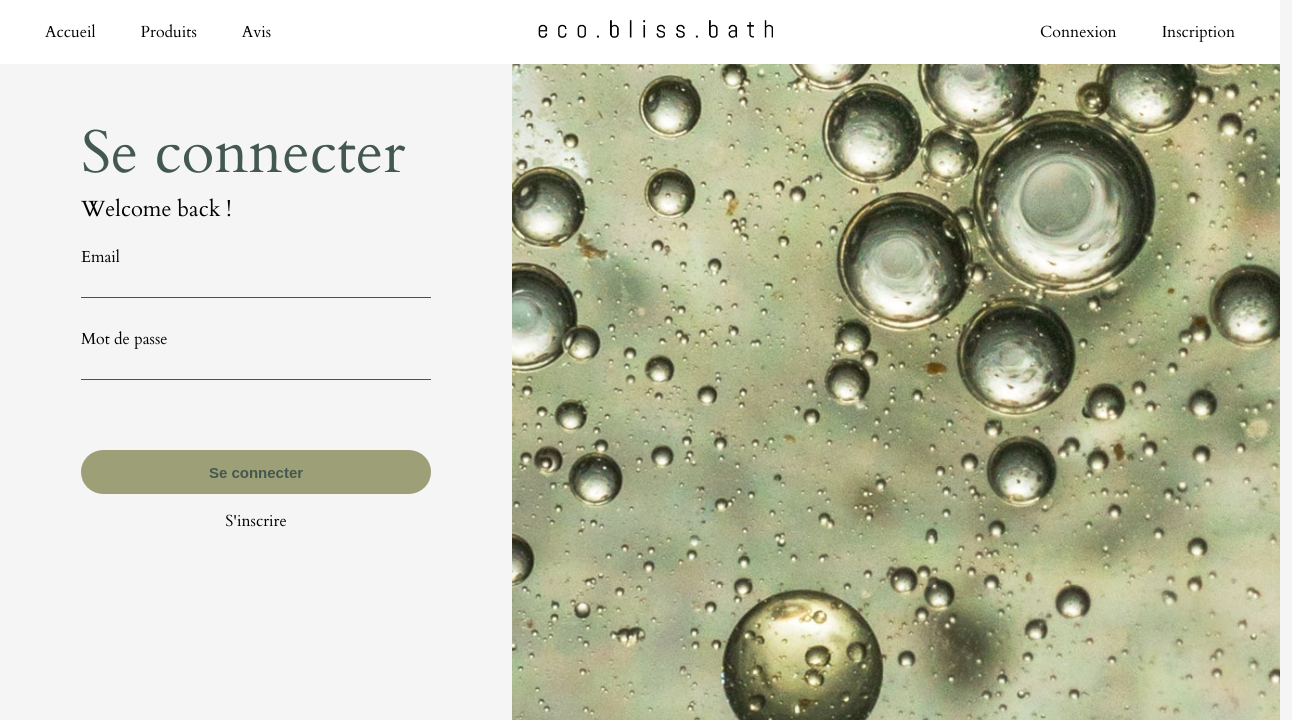
Test: Page de connexion › 2 - Résistance à l'injection SQL dans le formulaire de connexion
In the field with test id "login-input-username": (256, 283) [81,268,431,298], type "' OR 1=1#"
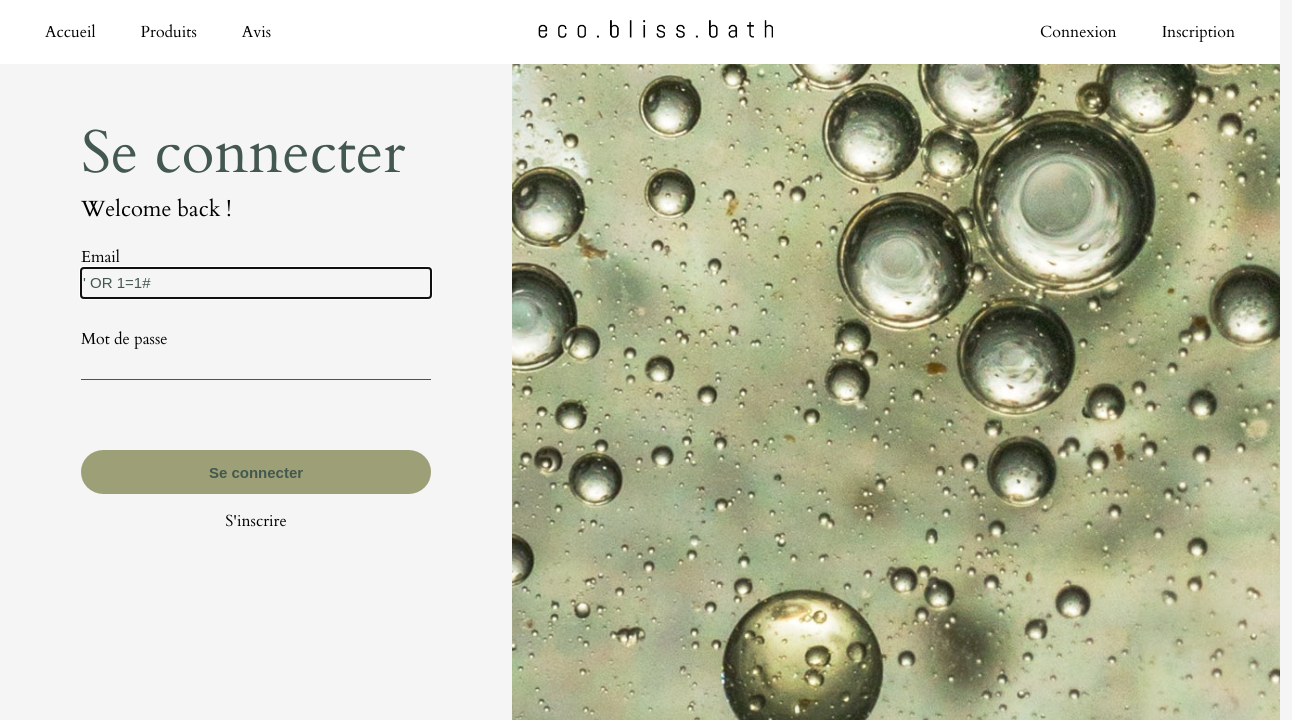
In the password field with test id "login-input-password": (256, 365) [81,350,431,380], type "' OR 1=1#"
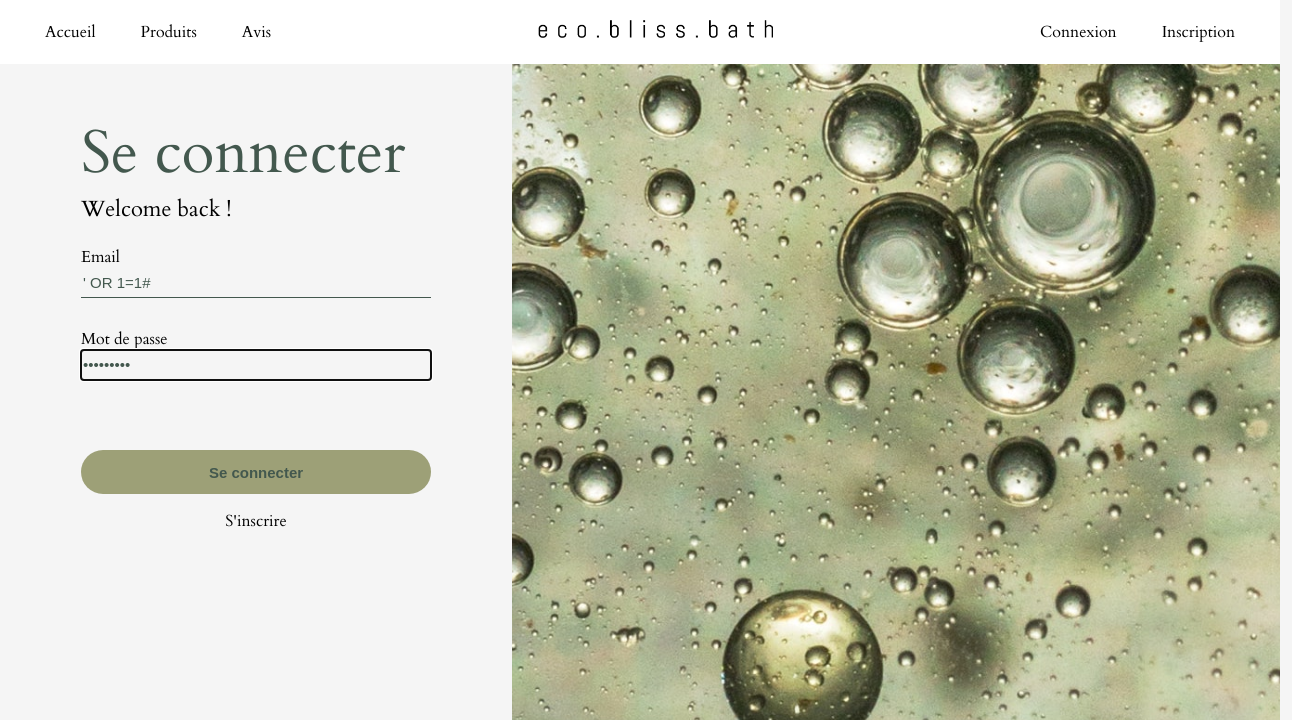
Click the button with test id "login-submit": (256, 472) [81,450,431,494]
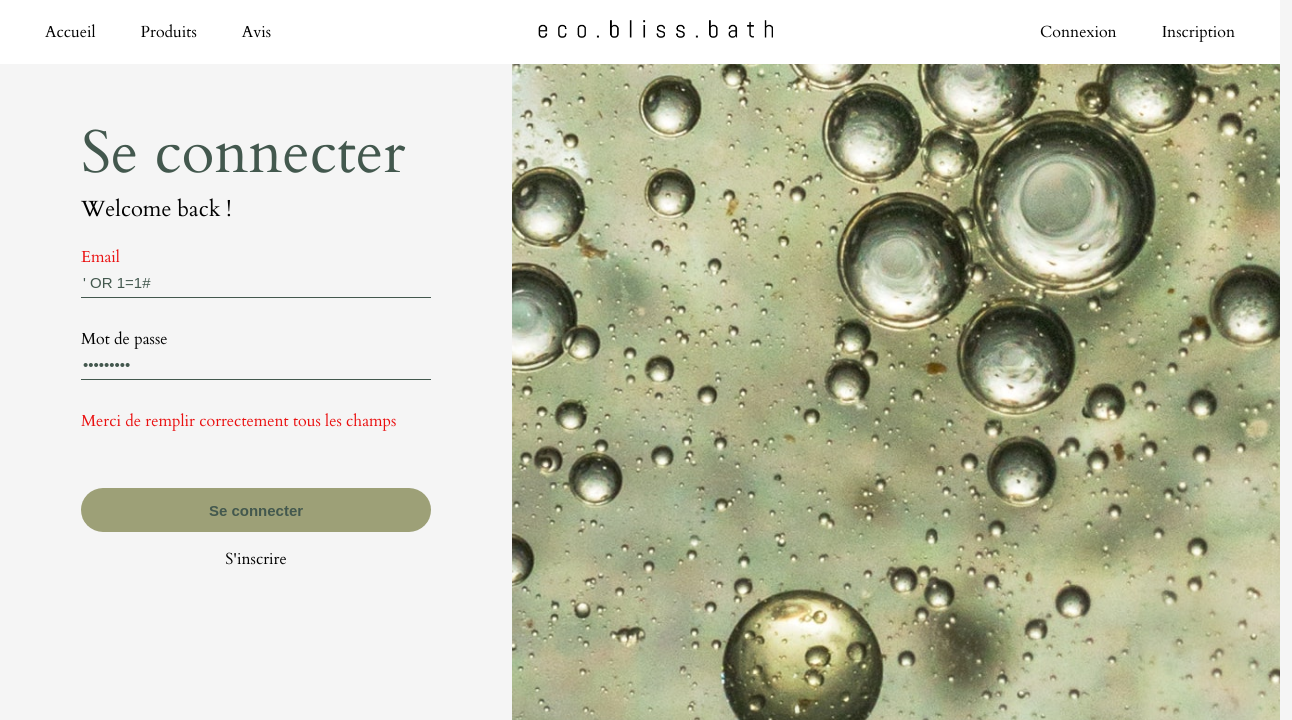
expect the text "Merci de remplir correctement tous les champs" is shown: met, box [81,410,431,432]
